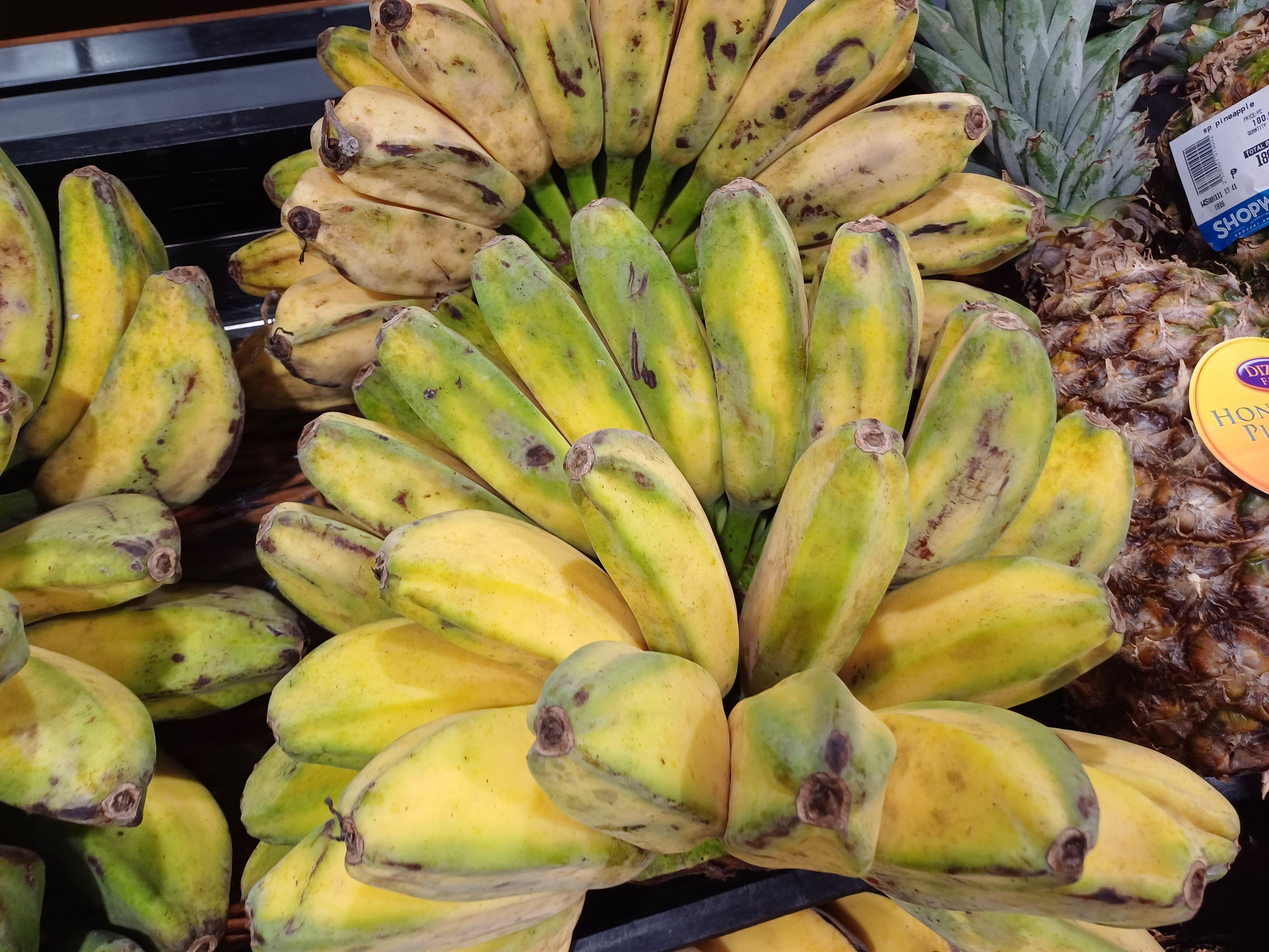underripe: (240, 420, 1237, 952), (258, 178, 1133, 635), (230, 0, 1041, 411), (0, 494, 304, 952), (0, 151, 244, 507)
